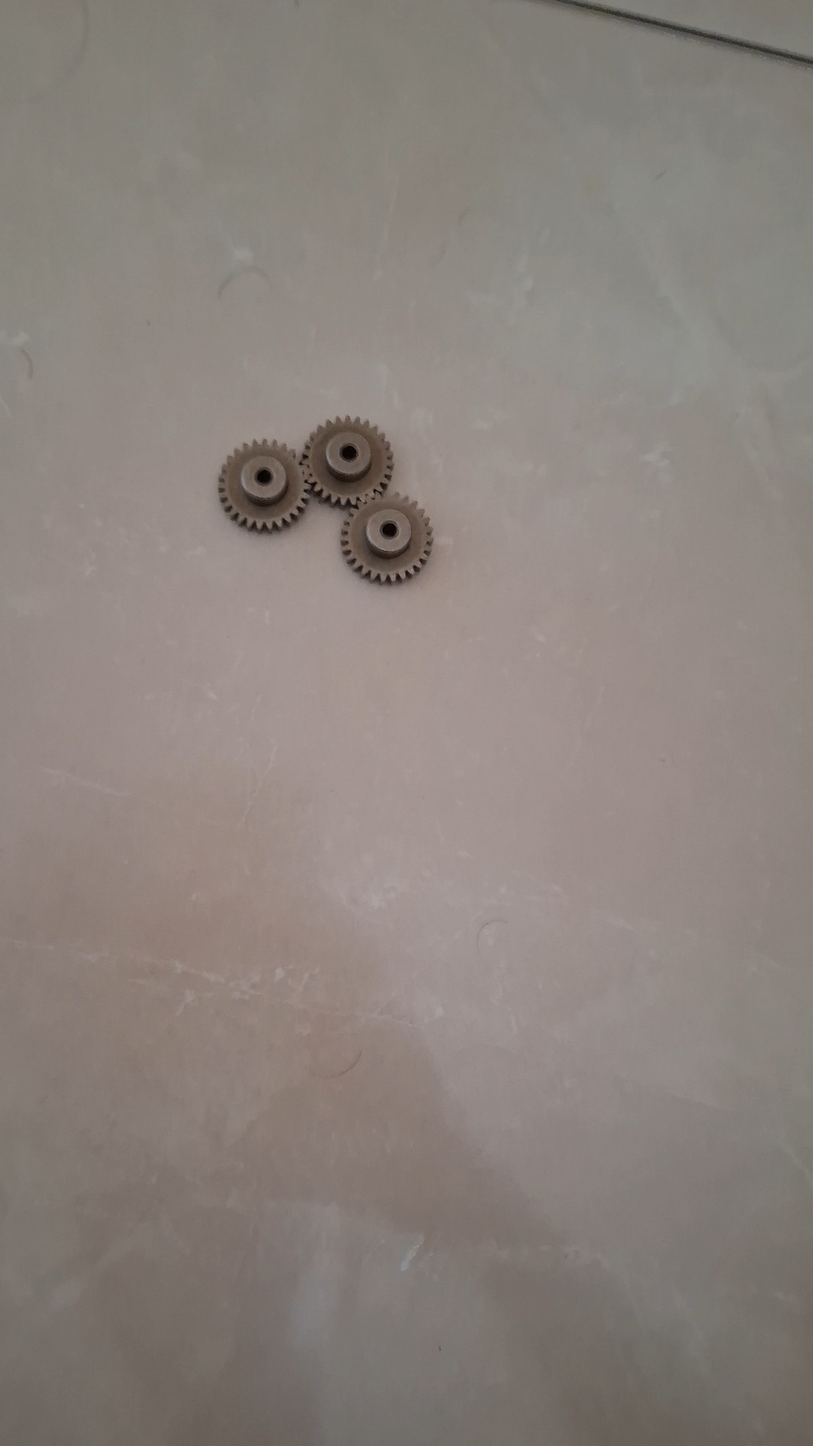spur gear: (218, 440, 309, 531), (303, 416, 393, 506), (341, 494, 432, 583)
